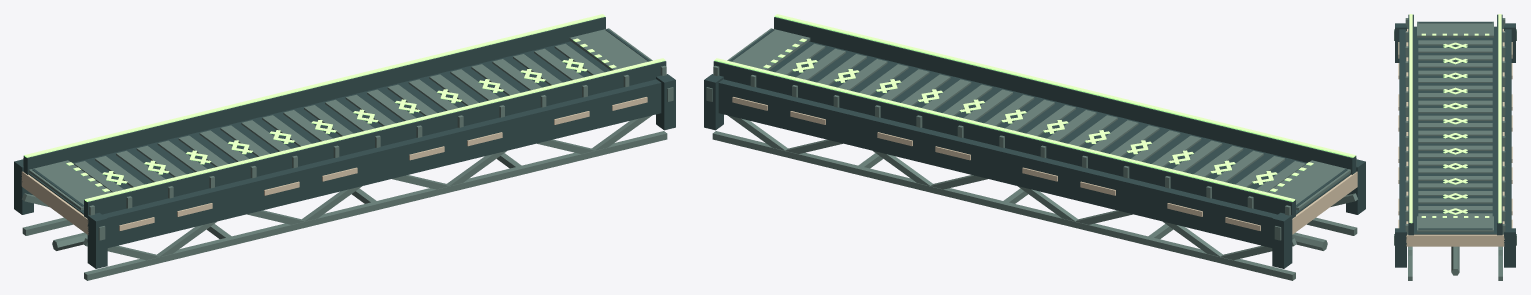
File: Deck_Conveyor_Belt_v4_14.glb
3 views of the same model, side by side, from view 1: azimuth 30°, elevation 25°; view 2: azimuth 150°, elevation 25°; view 3: azimuth 270°, elevation 25° (orthographic). The views are drawn at different scales.
Visible parts, largest first — view 1: Deck_Conveyor_Belt_v4_14, Treads, TreadsRev; view 2: Deck_Conveyor_Belt_v4_14, Treads, TreadsRev; view 3: Deck_Conveyor_Belt_v4_14, Treads, TreadsRev.
Boxes of the visible parts, box(x1,y1,x2,y2) form: Deck_Conveyor_Belt_v4_14: box(14, 14, 675, 280); Treads: box(74, 44, 604, 192); TreadsRev: box(76, 44, 602, 191); Deck_Conveyor_Belt_v4_14: box(704, 14, 1365, 280); Treads: box(775, 43, 1305, 192); TreadsRev: box(776, 44, 1302, 191); Deck_Conveyor_Belt_v4_14: box(1394, 14, 1516, 280); Treads: box(1418, 40, 1492, 216); TreadsRev: box(1418, 40, 1492, 216).
Size of the model in its own units: 14.06 by 1.83 by 3.48.
